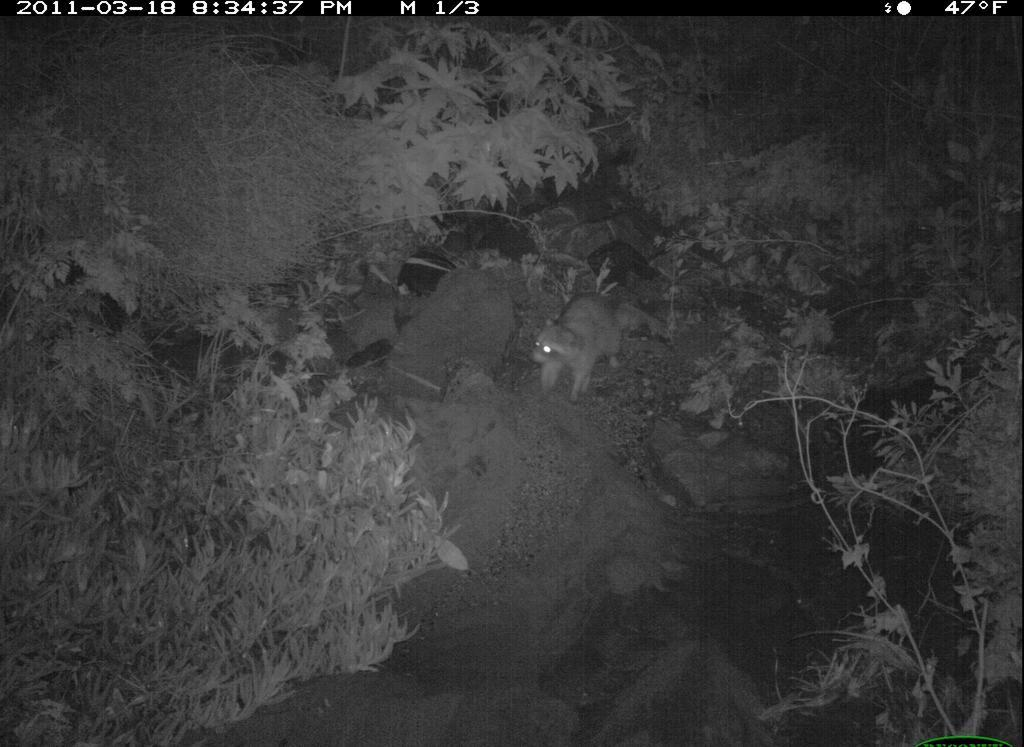raccoon: (520, 281, 673, 411)
